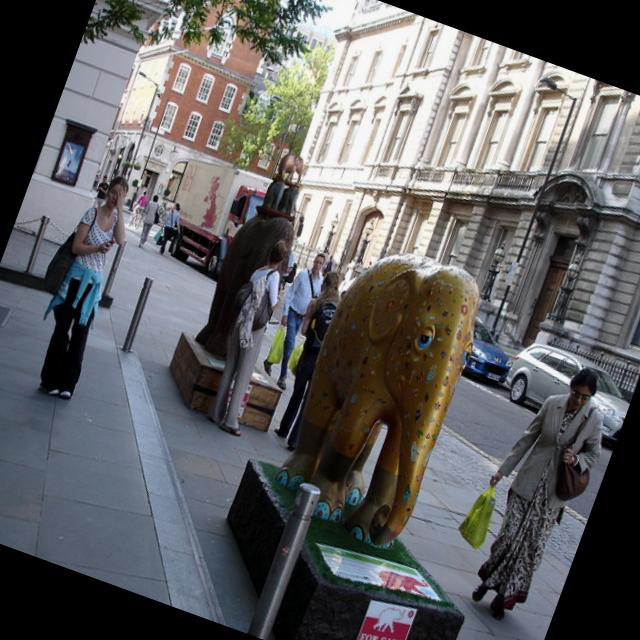Vehicle: (139, 145, 273, 289), (498, 333, 640, 441), (455, 316, 522, 388)
